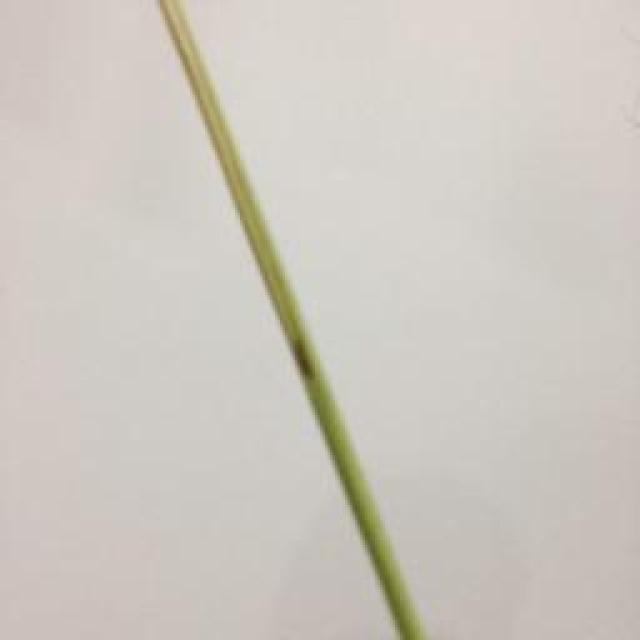Bacterial_Blight: (146, 0, 295, 294)
Brown_Spot: (279, 326, 322, 384)
